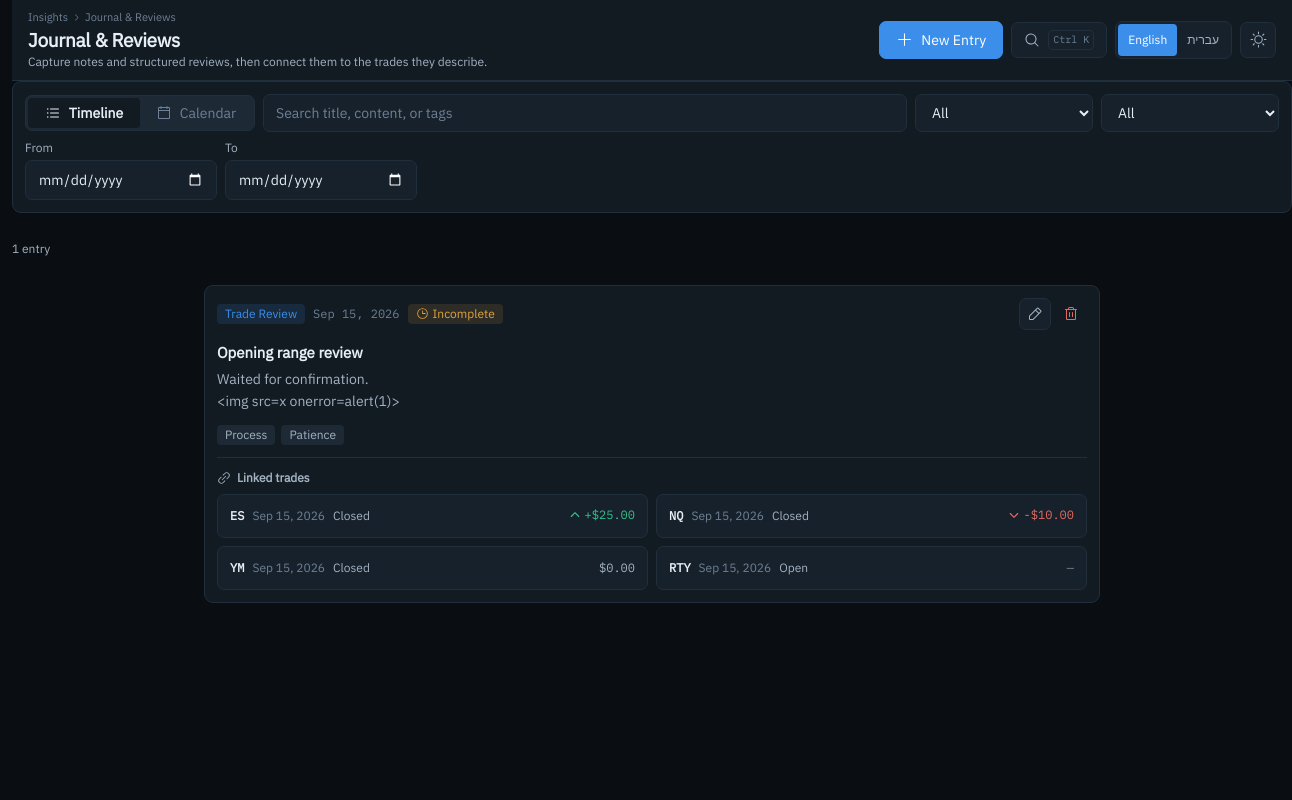
Test: Journal create, edit, and delete › confirms deletion and leaves the entry visible on failure
Check: the heading "Opening range review" is shown, box left=217, top=343, right=363, bottom=362
Click the button named "Delete Opening range review" at (1071, 314), box left=1055, top=298, right=1087, bottom=330
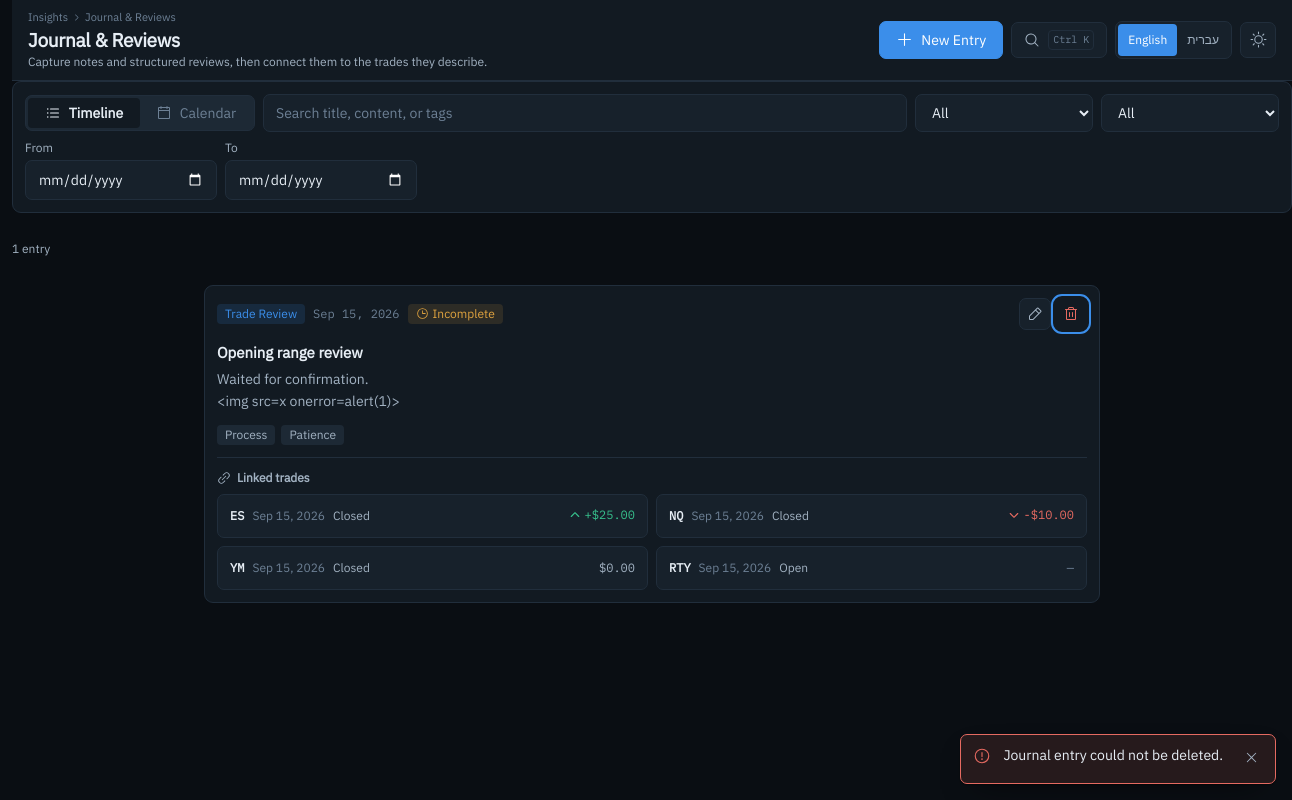
Check: the heading "Opening range review" is shown, box left=217, top=343, right=363, bottom=362
Check: the text "Journal entry could not be deleted." is shown, box left=1003, top=745, right=1223, bottom=765
